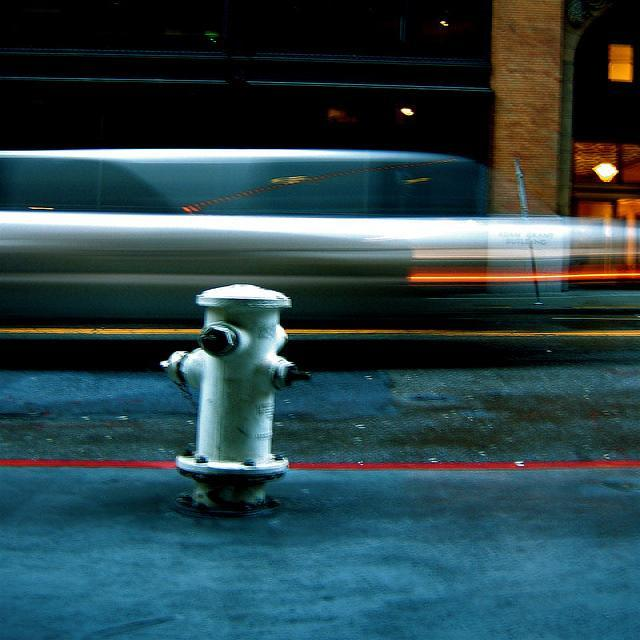fire_hydrant: (153, 283, 308, 516)
